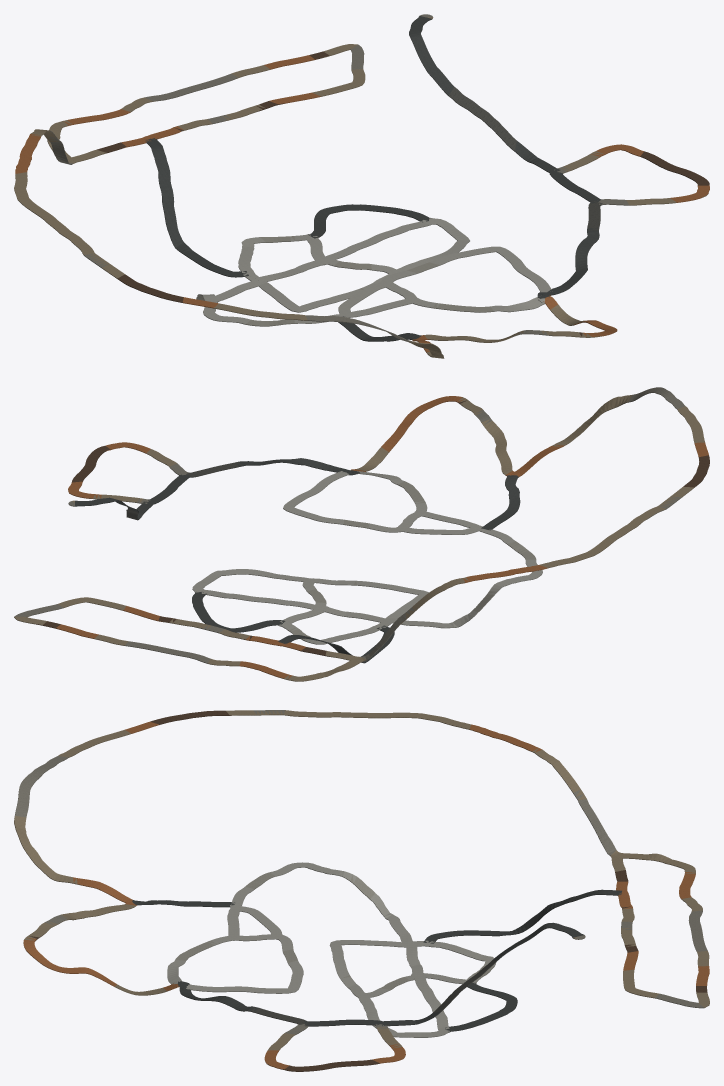
Rendered from GUIDE_ROAD_LOWPOLY_Philippine_Colors.glb.
3 renders of one model, top to bottom at view 1: azimuth 30°, elevation 25°; view 2: azimuth 150°, elevation 25°; view 3: azimuth 270°, elevation 25°, orthographic. The views are drawn at different scales.
Parts seen in each view (by area): view 1: GUIDE_ROAD_LOWPOLY_Mesh__MAT_Road_Residential_Concrete, GUIDE_ROAD_LOWPOLY_Mesh_1__MAT_Road_Market_Asphalt, GUIDE_ROAD_LOWPOLY_Mesh_2__MAT_Road_Hillside_Gravel, GUIDE_ROAD_LOWPOLY_Mesh_2__MAT_Road_Hillside_Laterite, GUIDE_ROAD_LOWPOLY_Mesh_2__MAT_Road_Hillside_Rocky, GUIDE_ROAD_LOWPOLY_Mesh_2__MAT_Road_Hillside_Mud, GUIDE_ROAD_LOWPOLY_Mesh__MAT_Road_Residential_PatchedConcret, GUIDE_ROAD_LOWPOLY_Mesh_1__MAT_Road_Market_PatchedAsphalt; view 2: GUIDE_ROAD_LOWPOLY_Mesh__MAT_Road_Residential_Concrete, GUIDE_ROAD_LOWPOLY_Mesh_2__MAT_Road_Hillside_Gravel, GUIDE_ROAD_LOWPOLY_Mesh_2__MAT_Road_Hillside_Laterite, GUIDE_ROAD_LOWPOLY_Mesh_1__MAT_Road_Market_Asphalt, GUIDE_ROAD_LOWPOLY_Mesh_2__MAT_Road_Hillside_Rocky, GUIDE_ROAD_LOWPOLY_Mesh_2__MAT_Road_Hillside_Mud, GUIDE_ROAD_LOWPOLY_Mesh__MAT_Road_Residential_PatchedConcret; view 3: GUIDE_ROAD_LOWPOLY_Mesh__MAT_Road_Residential_Concrete, GUIDE_ROAD_LOWPOLY_Mesh_2__MAT_Road_Hillside_Gravel, GUIDE_ROAD_LOWPOLY_Mesh_1__MAT_Road_Market_Asphalt, GUIDE_ROAD_LOWPOLY_Mesh_2__MAT_Road_Hillside_Laterite, GUIDE_ROAD_LOWPOLY_Mesh_2__MAT_Road_Hillside_Rocky, GUIDE_ROAD_LOWPOLY_Mesh_2__MAT_Road_Hillside_Mud, GUIDE_ROAD_LOWPOLY_Mesh__MAT_Road_Residential_PatchedConcret, GUIDE_ROAD_LOWPOLY_Mesh_1__MAT_Road_Market_PatchedAsphalt.
Part boxes in pixels (x1,y1,x2,y2): GUIDE_ROAD_LOWPOLY_Mesh__MAT_Road_Residential_Concrete: [197, 217, 552, 324]; GUIDE_ROAD_LOWPOLY_Mesh_1__MAT_Road_Market_Asphalt: [145, 16, 601, 341]; GUIDE_ROAD_LOWPOLY_Mesh_2__MAT_Road_Hillside_Gravel: [14, 17, 708, 358]; GUIDE_ROAD_LOWPOLY_Mesh_2__MAT_Road_Hillside_Laterite: [15, 55, 709, 353]; GUIDE_ROAD_LOWPOLY_Mesh_2__MAT_Road_Hillside_Rocky: [47, 14, 629, 342]; GUIDE_ROAD_LOWPOLY_Mesh_2__MAT_Road_Hillside_Mud: [97, 51, 709, 336]; GUIDE_ROAD_LOWPOLY_Mesh__MAT_Road_Residential_PatchedConcret: [196, 236, 493, 326]; GUIDE_ROAD_LOWPOLY_Mesh_1__MAT_Road_Market_PatchedAsphalt: [448, 87, 602, 230]; GUIDE_ROAD_LOWPOLY_Mesh__MAT_Road_Residential_Concrete: [192, 471, 542, 644]; GUIDE_ROAD_LOWPOLY_Mesh_2__MAT_Road_Hillside_Gravel: [14, 395, 704, 681]; GUIDE_ROAD_LOWPOLY_Mesh_2__MAT_Road_Hillside_Laterite: [56, 396, 708, 678]; GUIDE_ROAD_LOWPOLY_Mesh_1__MAT_Road_Market_Asphalt: [75, 458, 520, 663]; GUIDE_ROAD_LOWPOLY_Mesh_2__MAT_Road_Hillside_Rocky: [14, 387, 684, 663]; GUIDE_ROAD_LOWPOLY_Mesh_2__MAT_Road_Hillside_Mud: [36, 400, 709, 656]; GUIDE_ROAD_LOWPOLY_Mesh__MAT_Road_Residential_PatchedConcret: [286, 481, 536, 641]; GUIDE_ROAD_LOWPOLY_Mesh__MAT_Road_Residential_Concrete: [167, 862, 496, 1037]; GUIDE_ROAD_LOWPOLY_Mesh_2__MAT_Road_Hillside_Gravel: [14, 710, 709, 1065]; GUIDE_ROAD_LOWPOLY_Mesh_1__MAT_Road_Market_Asphalt: [132, 889, 621, 1032]; GUIDE_ROAD_LOWPOLY_Mesh_2__MAT_Road_Hillside_Laterite: [23, 721, 709, 1069]; GUIDE_ROAD_LOWPOLY_Mesh_2__MAT_Road_Hillside_Rocky: [15, 710, 707, 1034]; GUIDE_ROAD_LOWPOLY_Mesh_2__MAT_Road_Hillside_Mud: [29, 710, 707, 1071]; GUIDE_ROAD_LOWPOLY_Mesh__MAT_Road_Residential_PatchedConcret: [175, 872, 494, 990]; GUIDE_ROAD_LOWPOLY_Mesh_1__MAT_Road_Market_PatchedAsphalt: [243, 960, 496, 1026].
Size of the model in its own units: 515 by 107 by 532.
8 materials, 8 textured.
